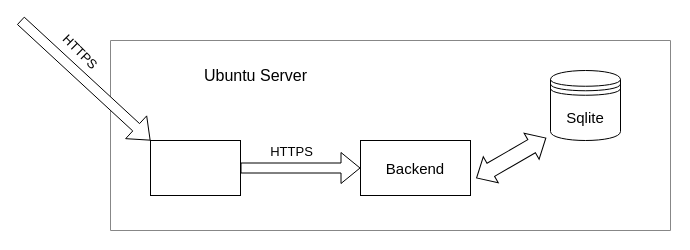
This 690x250 diagram has some shape labels left out. Here are the shapes that lost their labels. From the top down, the box of each, then its label:
(150, 140, 240, 196): Frontend
(468, 124, 554, 191): FILE
